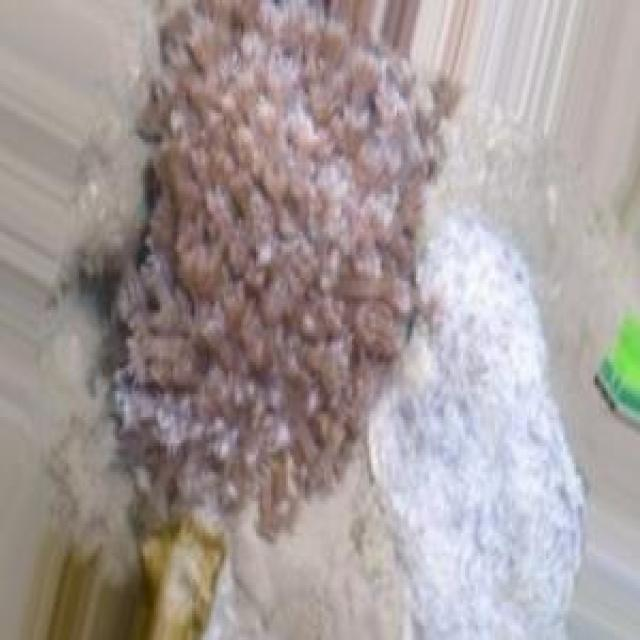Bleached: (371, 211, 585, 637)
Healthy: (129, 3, 440, 530)
